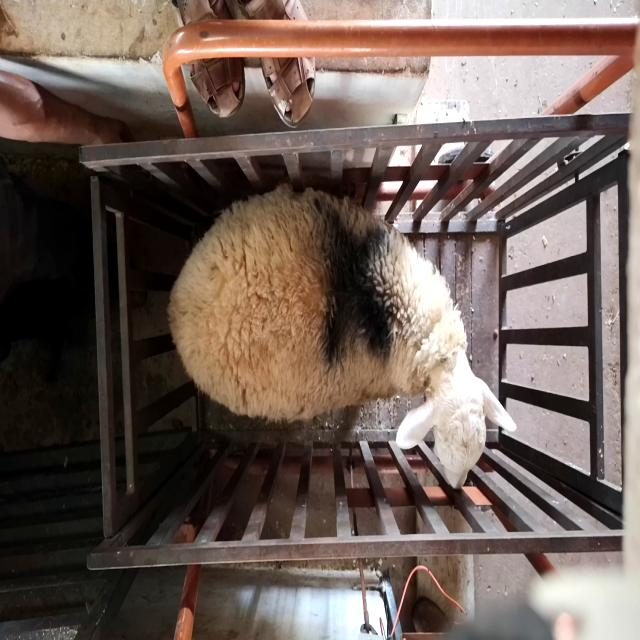sheep: (168, 185, 518, 492)
